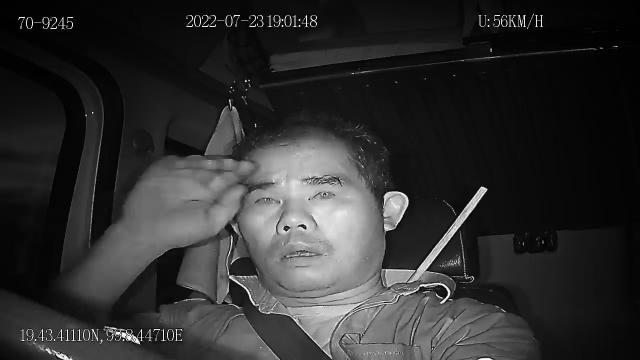SafeDriving: (302, 178, 346, 206), (246, 186, 288, 214)
Seatbelt: (241, 305, 333, 360)
